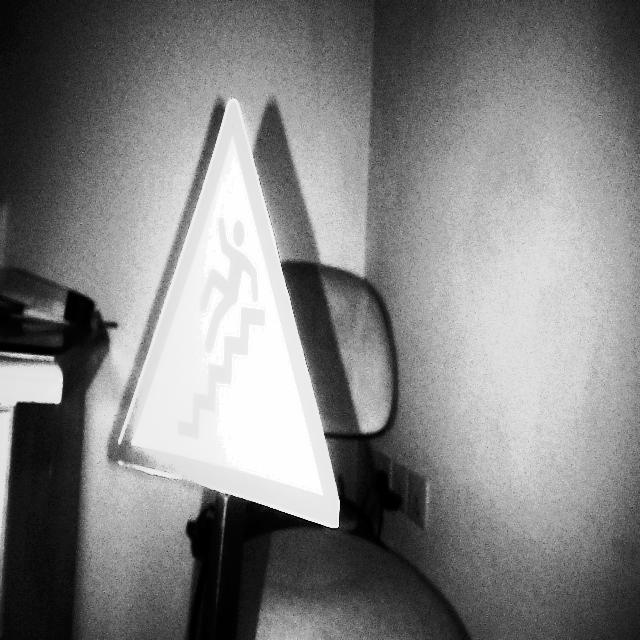Sign: (117, 97, 342, 531)
